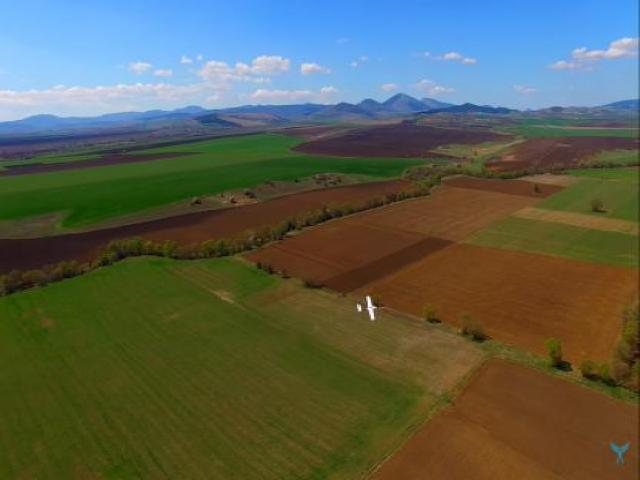uav: (351, 288, 380, 326)
